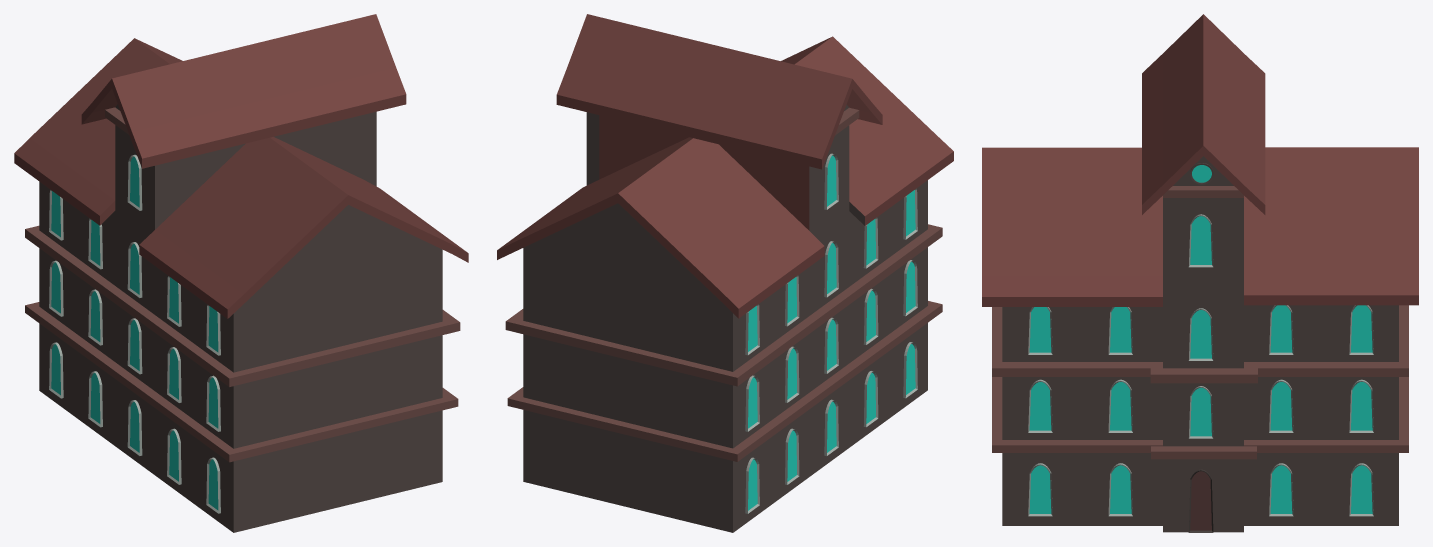
File: Building19.fbx
The picture shows the model from 3 angles, left to right: view 1: azimuth 30°, elevation 25°; view 2: azimuth 150°, elevation 25°; view 3: azimuth 270°, elevation 25°; orthographic projection. The views are drawn at different scales.
Visible parts, largest first — view 1: house 3; view 2: house 3; view 3: house 3.
Boxes of the visible parts, bbox=[...] form: house 3: bbox=[14, 14, 468, 532]; house 3: bbox=[497, 14, 953, 532]; house 3: bbox=[982, 14, 1418, 532].
Size of the model in its own units: 1248 by 1751 by 1750.
Materials: 2 (1 with a texture image).
